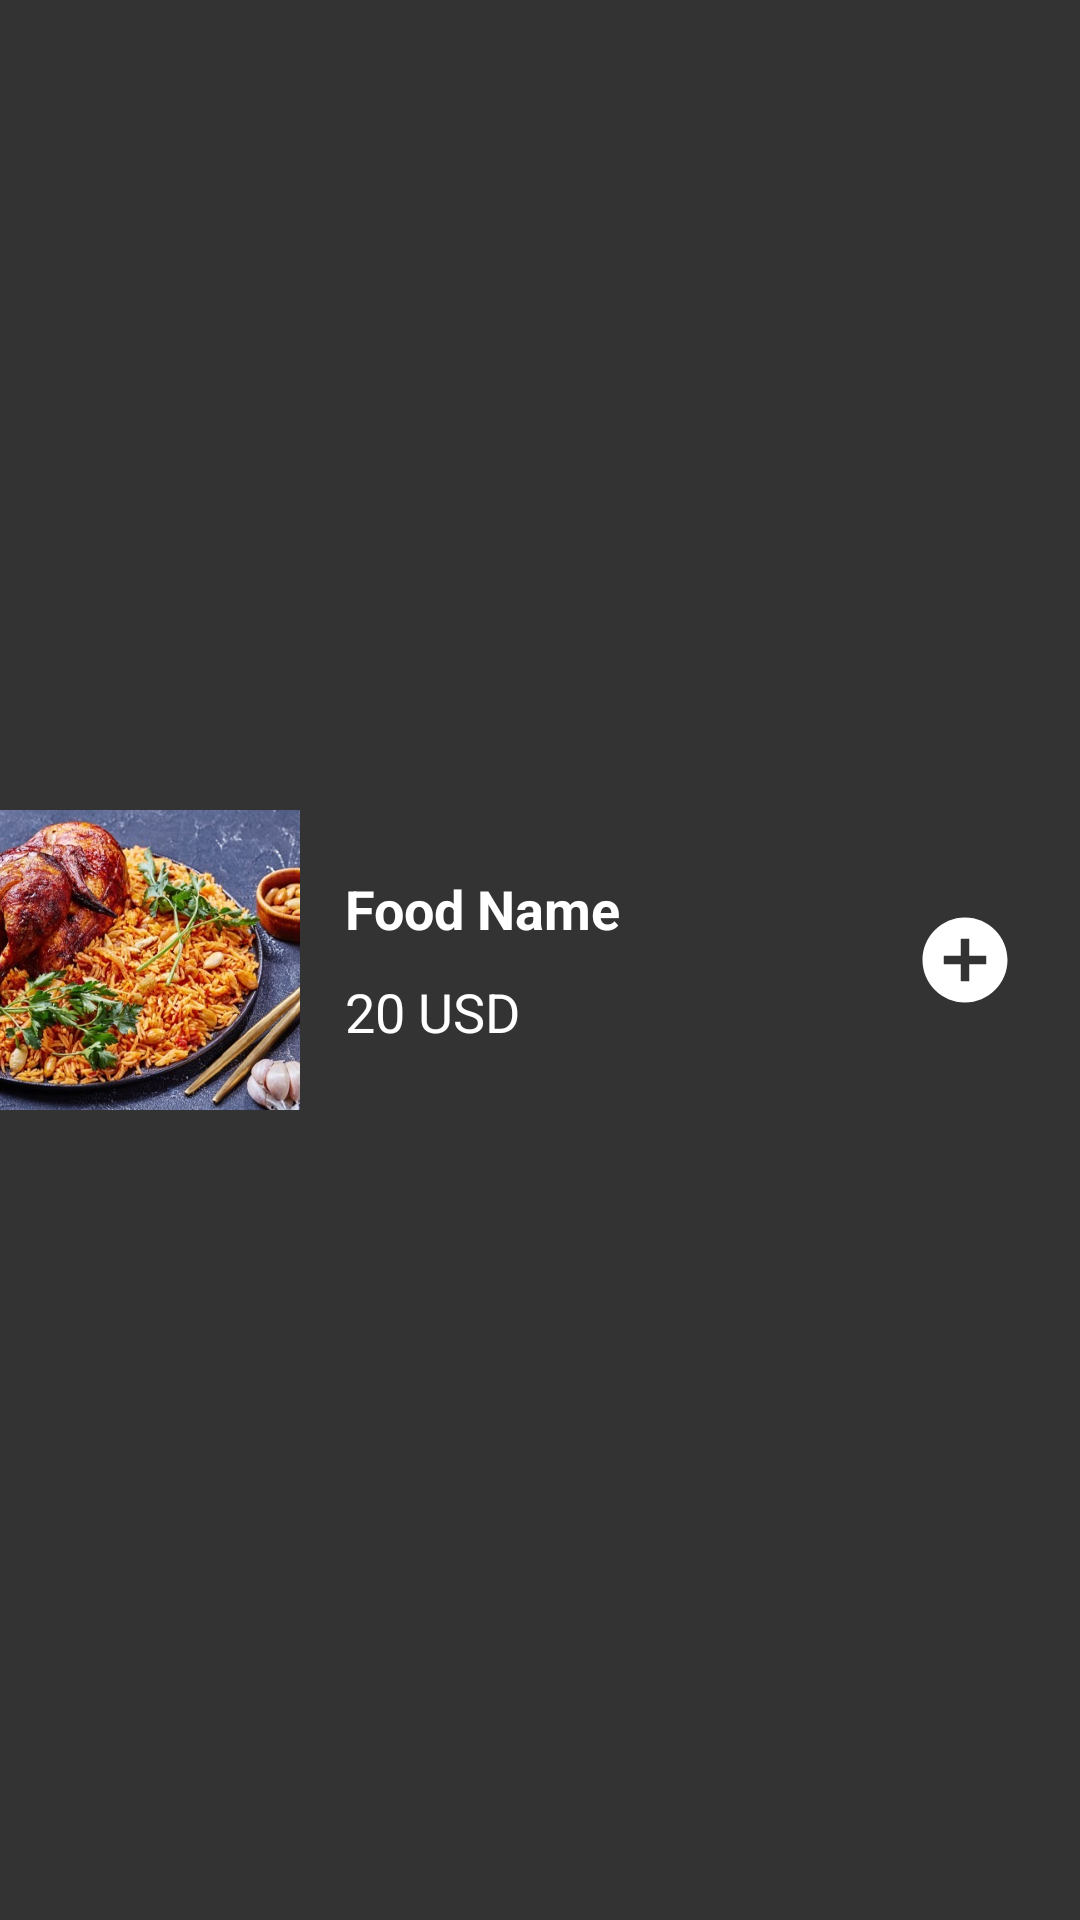

Icon click points for this 1080×1920 phone screenshot, format [x,y]:
Add to cart: [965,960]
arabic category: [150,960]
